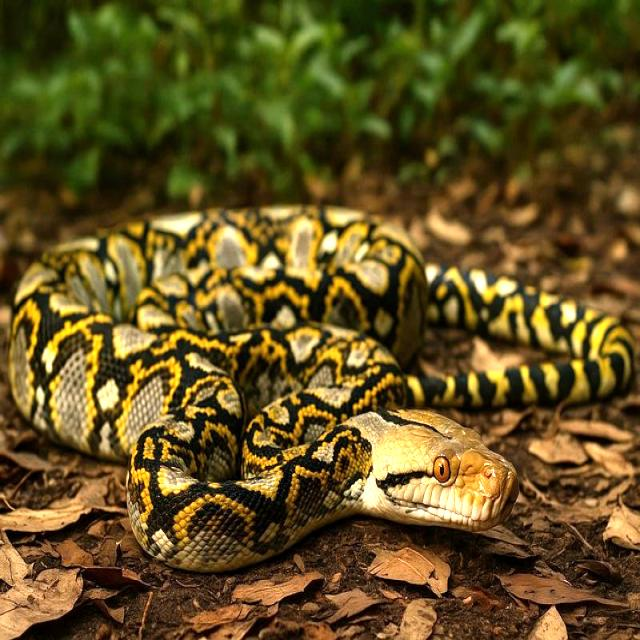Malayopython reticulatus: (10, 207, 634, 570)
